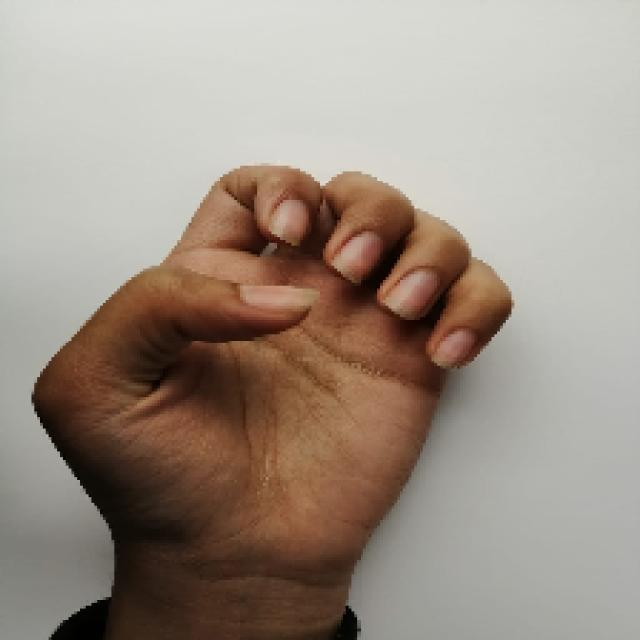Nail: (384, 268, 441, 320), (330, 230, 385, 283), (239, 284, 319, 312), (269, 199, 310, 246), (432, 330, 476, 370)
